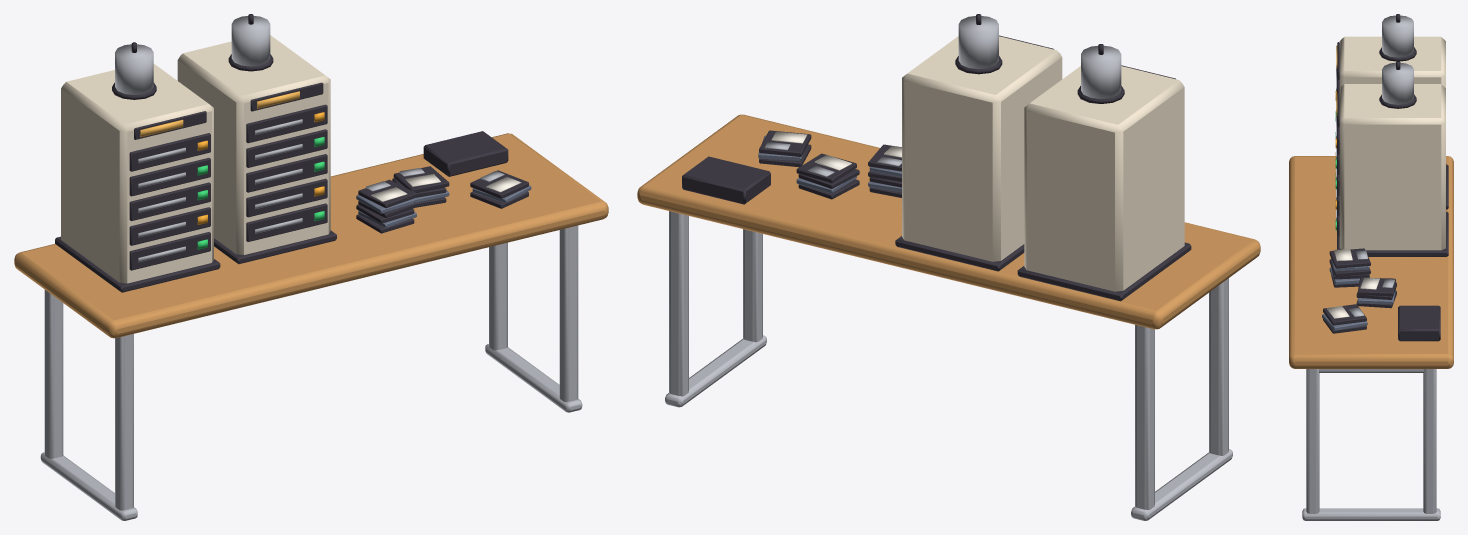
File: disk_duplicator_l2.glb
3 views of the same model, side by side, from view 1: azimuth 30°, elevation 25°; view 2: azimuth 150°, elevation 25°; view 3: azimuth 270°, elevation 25° (orthographic). The views are drawn at different scales.
Parts seen in each view (by area): view 1: disk_duplicator_l2; view 2: disk_duplicator_l2; view 3: disk_duplicator_l2.
Part boxes in pixels (x1,y1,x2,y2): disk_duplicator_l2: (14,14,608,520); disk_duplicator_l2: (637,14,1260,520); disk_duplicator_l2: (1289,14,1453,520).
Size of the model in its own units: 1.8 by 1.45 by 0.62.
